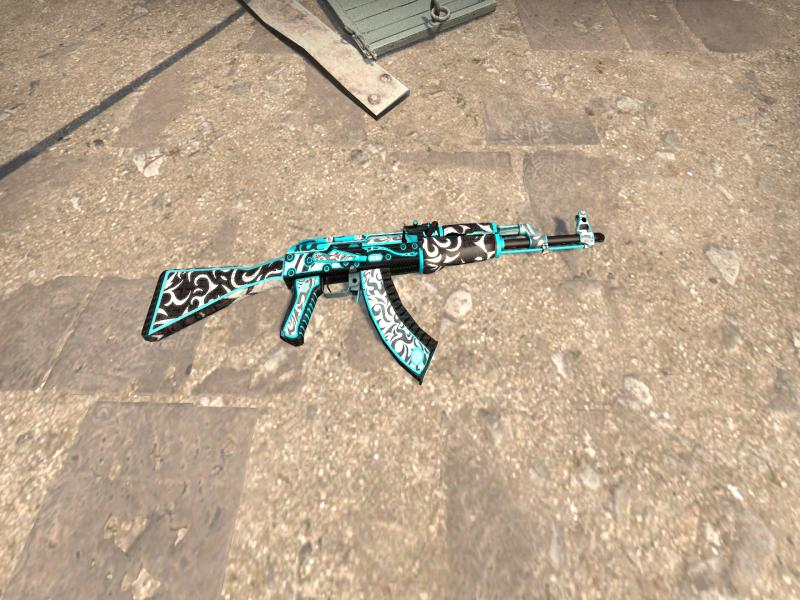AK47: (142, 212, 605, 383)
